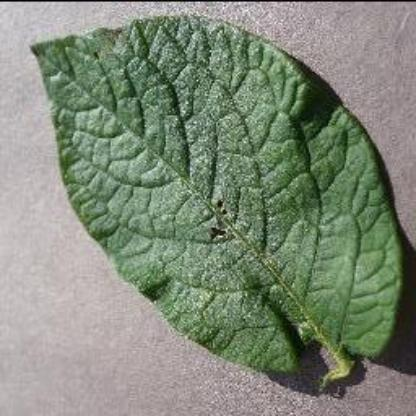Healthy-plant: (30, 11, 404, 387)
